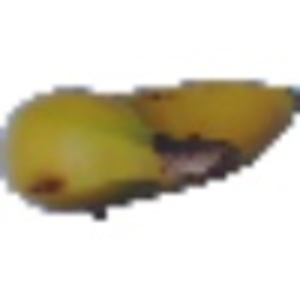banana: (3, 66, 294, 213)
